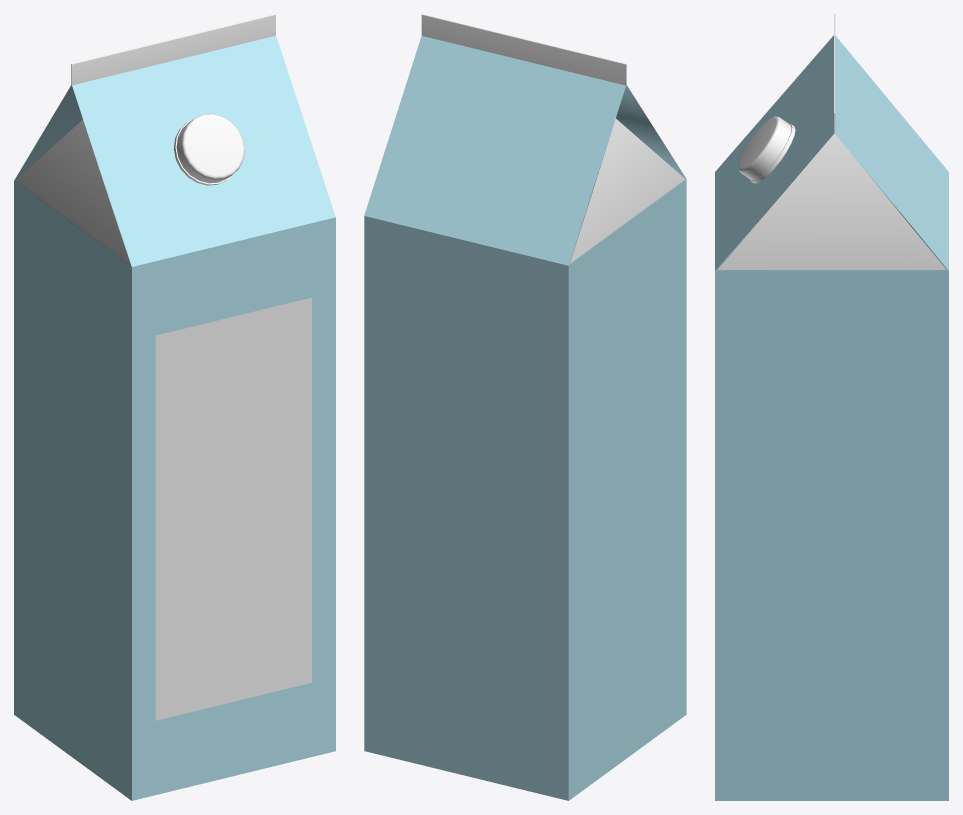
The picture shows the model from 3 angles, left to right: view 1: azimuth 30°, elevation 25°; view 2: azimuth 150°, elevation 25°; view 3: azimuth 270°, elevation 25°; orthographic projection.
Parts seen in each view (by area): view 1: MilkCarton; view 2: MilkCarton; view 3: MilkCarton.
Part boxes in pixels (box(x1,y1,x2,y2)): MilkCarton: box(14, 14, 335, 800); MilkCarton: box(364, 14, 686, 800); MilkCarton: box(715, 14, 948, 800).
Bounding box in the file's own units: 0.1 × 0.3245 × 0.1.
